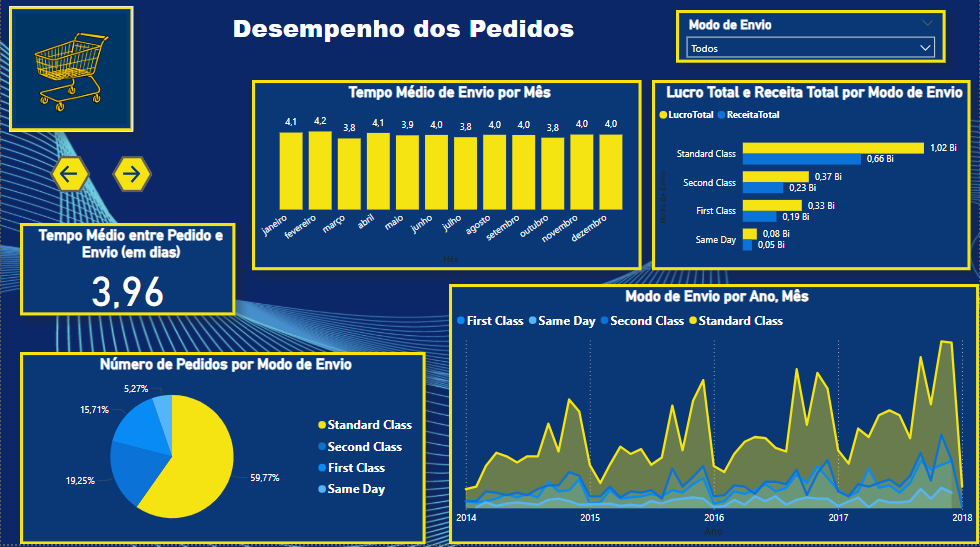

The dashboard page shown, as its layout file describes it:
{"tool":"powerbi","page":{"name":"Pedidos","canvas":[1280,720],"ordinal":3},"visuals":[{"type":"card","title":"Tempo Médio entre Pedido e Envio (em dias)","fields":{"Values":["Medidas.TempoMédioEntrega"]},"box":[24.6,299.3,282.4,121.2],"z":0},{"type":"clusteredColumnChart","title":"Tempo Médio de Envio por Mês","fields":{"Y":["Medidas.TempoMédioEntrega"],"Category":["PEDIDOS.Data do Pedido.Variation.Hierarquia de datas.Ano","PEDIDOS.Data do Pedido.Variation.Hierarquia de datas.Trimestre","PEDIDOS.Data do Pedido.Variation.Hierarquia de datas.Mês","PEDIDOS.Data do Pedido.Variation.Hierarquia de datas.Dia"]},"box":[328.4,112,509.5,248.6],"z":1000},{"type":"pieChart","title":"Número de Pedidos por Modo de Envio","fields":{"Category":["PEDIDOS.Modo de Envio"],"Y":["Count(PEDIDOS.ID do Pedido)"]},"box":[24.6,468.1,531,251.7],"z":2000},{"type":"clusteredBarChart","title":"Lucro Total e Receita Total por Modo de Envio","fields":{"Category":["PEDIDOS.Modo de Envio"],"Y":["Medidas.LucroTotal","Medidas.ReceitaTotal"]},"box":[851.8,112,417.5,248.6],"z":3000},{"type":"areaChart","title":"Modo de Envio por Ano, Mês ","fields":{"Category":["PEDIDOS.Data de Envio.Variation.Hierarquia de datas.Ano","PEDIDOS.Data de Envio.Variation.Hierarquia de datas.Mês"],"Y":["CountNonNull(PEDIDOS.Modo de Envio)"],"Series":["PEDIDOS.Modo de Envio"]},"box":[586.3,379.1,693.7,340.7],"z":4000},{"type":"image","box":[10.1,15.8,162.7,164.2],"z":5000},{"type":"textbox","box":[216.4,15.3,621.6,82.9],"z":6000},{"type":"slicer","fields":{"Values":["PEDIDOS.Modo de Envio"]},"box":[884,21.5,353,69.1],"z":7000},{"type":"actionButton","box":[145.4,211.7,53.3,47.5],"z":8000},{"type":"actionButton","box":[64.8,211.7,53.3,47.5],"z":9000}]}

Visuals, with their boxes in screenshot pixels (x1, y1, x2, y2), scaled from the page's 1280x720 canvas onto the 980x547 screenshot:
"Tempo Médio entre Pedido e Envio (em dias)" card: (19,227,235,319)
"Tempo Médio de Envio por Mês" clusteredColumnChart: (251,85,642,274)
"Número de Pedidos por Modo de Envio" pieChart: (19,356,425,546)
"Lucro Total e Receita Total por Modo de Envio" clusteredBarChart: (652,85,972,274)
"Modo de Envio por Ano, Mês " areaChart: (449,288,979,546)
image: (8,12,132,137)
textbox: (166,12,642,75)
slicer - PEDIDOS.Modo de Envio: (677,16,947,69)
actionButton: (111,161,152,197)
actionButton: (50,161,90,197)
